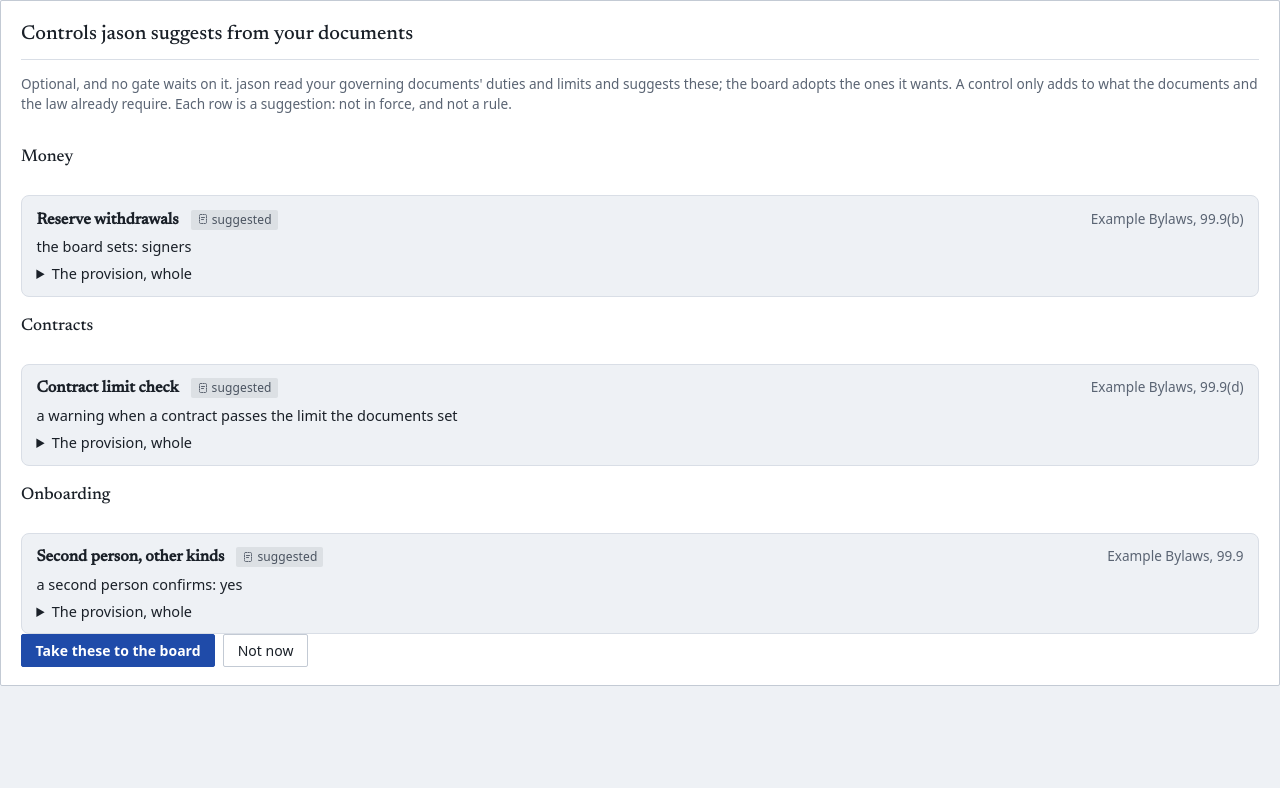
it: the onboarding controls step › reports a refusal in the server's words and goes on with the rest
Expected: the heading "Money" is shown, [21,149,73,165]
Click the button "Take these to the board": point(118, 651) [21,634,215,668]
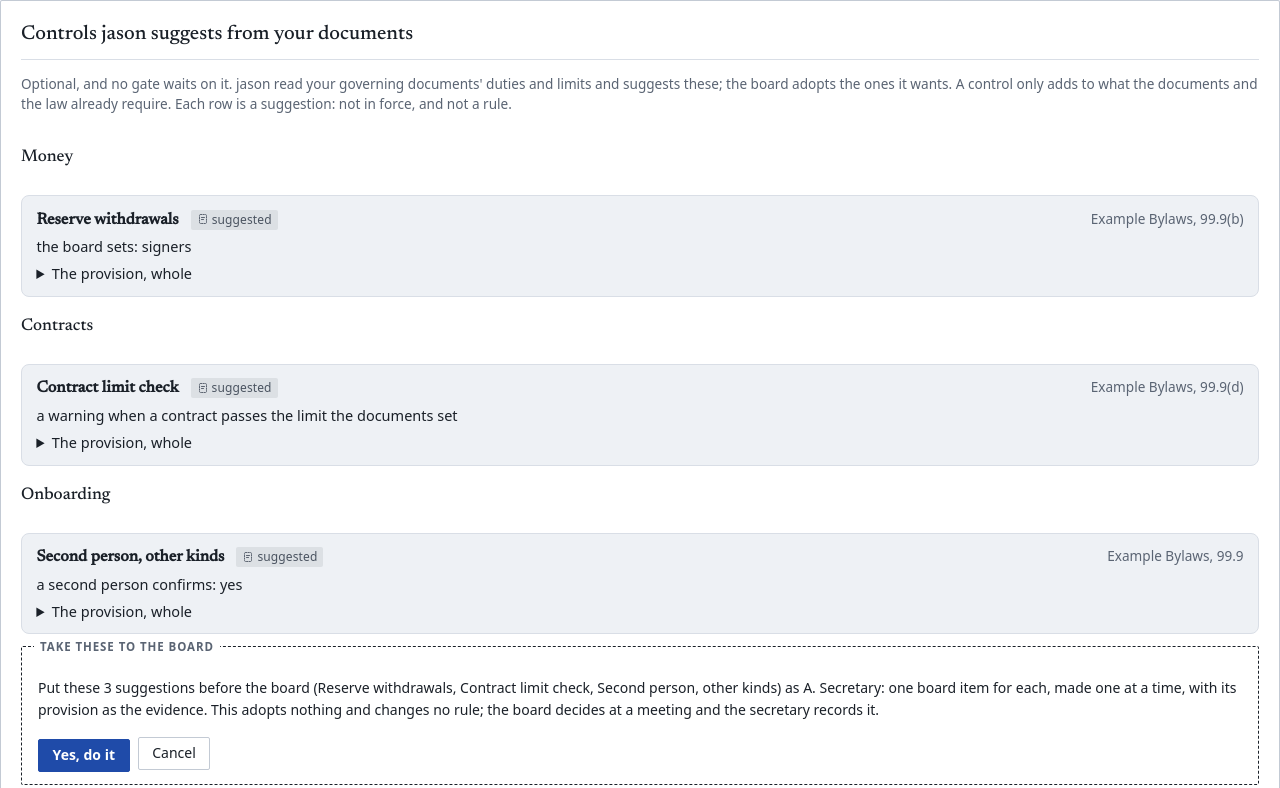
Click the button "Yes, do it": point(84, 755) [38,739,130,772]
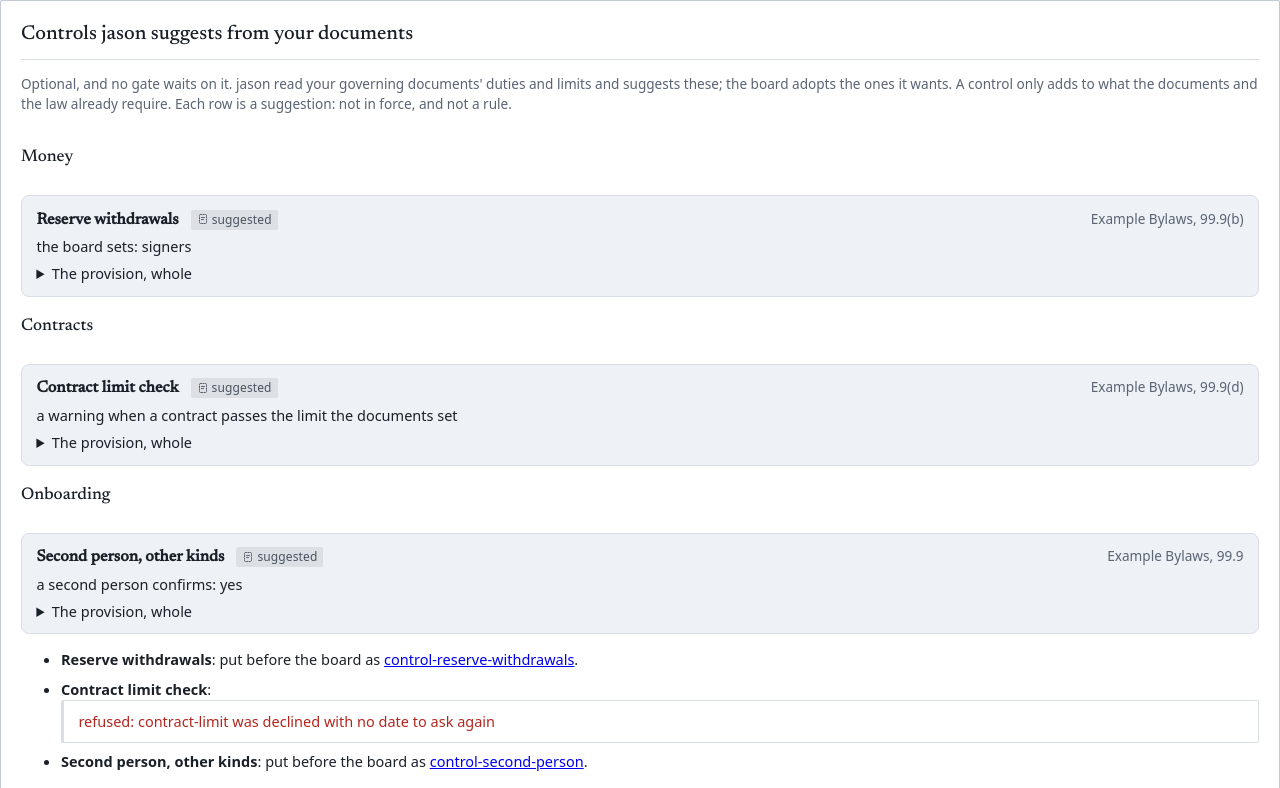
Expected: the 5th list item shows "refused: contract-limit was declined with no date to ask again", [61,679,1259,743]
